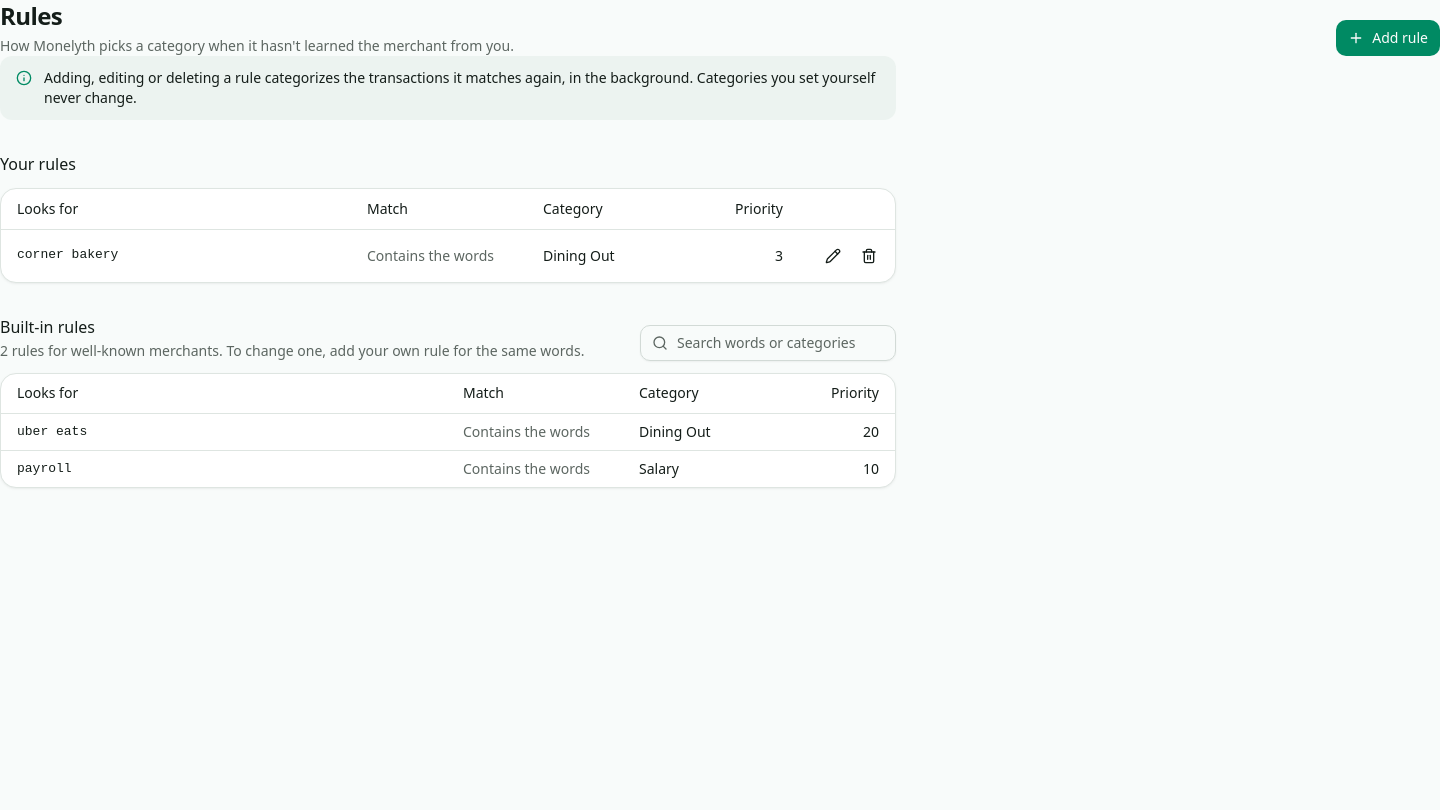
Test: RulesScreen › refuses a priority outside 0 to 1000
The width and height of the screenshot is (1440, 810).
Step 1. Click the button named "Edit the rule for corner bakery" → (833, 256), box [815,238,851,274]
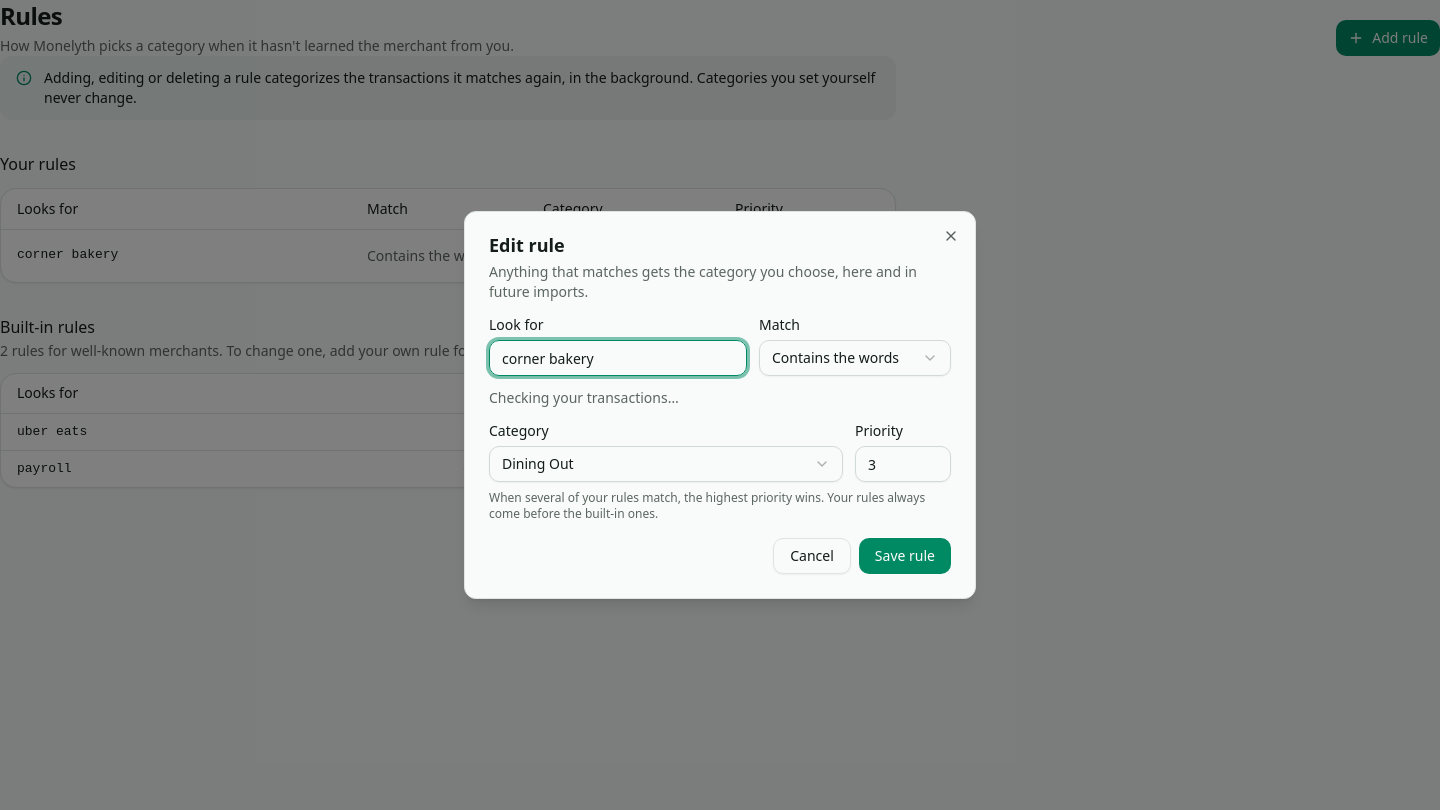
Step 2. Replace the text in the number field labelled "Priority" with "1001" → (903, 464), box [855,446,951,482]
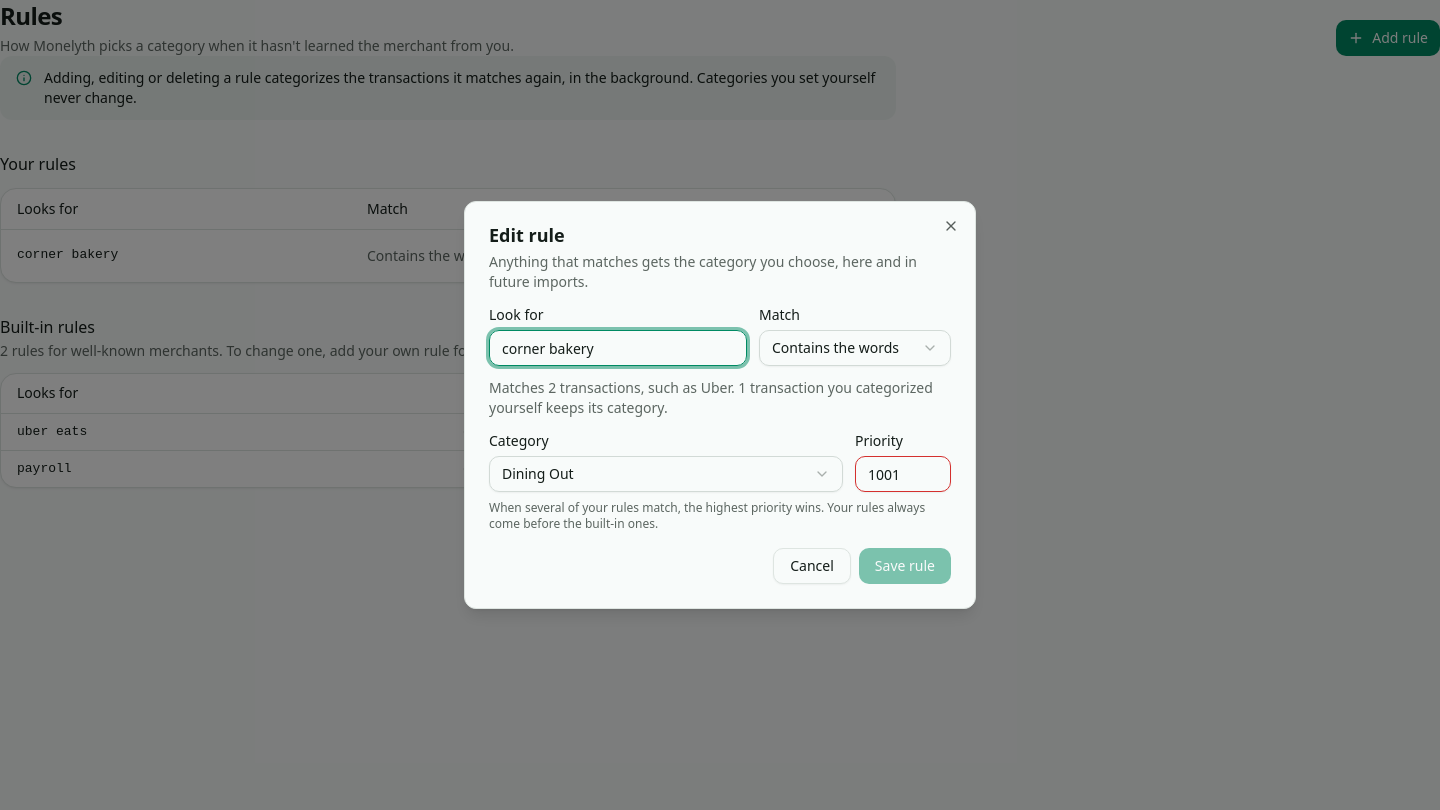
Result: the button "Save rule" is disabled at [859,548,951,584]
